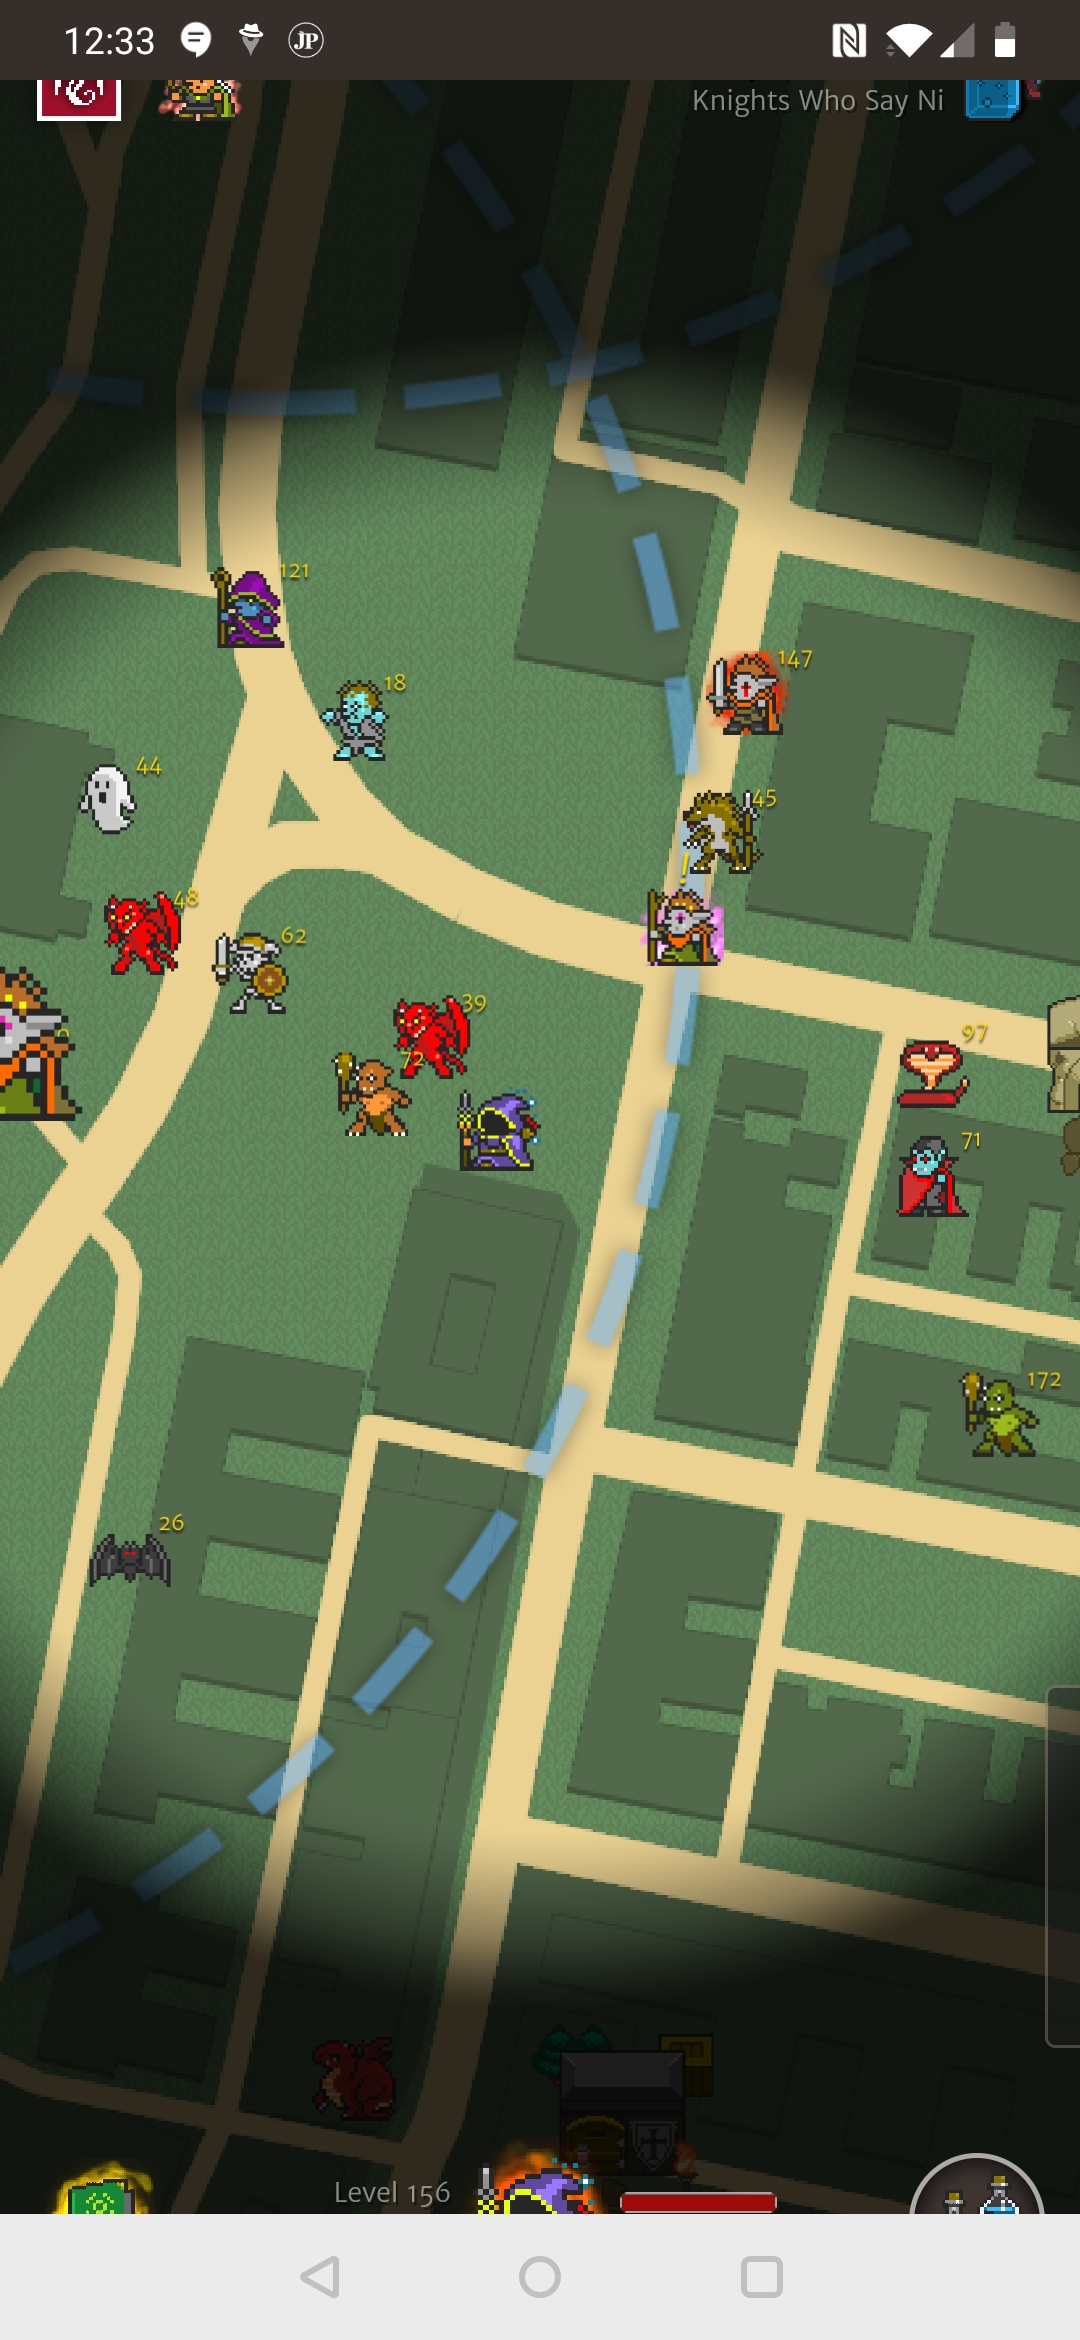monster: (681, 637, 826, 751), (88, 1496, 198, 1623), (884, 1013, 995, 1140), (205, 551, 319, 661), (946, 1361, 1063, 1468), (401, 985, 519, 1085), (319, 665, 426, 775), (208, 927, 315, 1034), (98, 889, 212, 985), (881, 1123, 981, 1227), (70, 751, 170, 851), (681, 785, 774, 882), (339, 1051, 429, 1137)
player: (450, 1085, 536, 1199)
